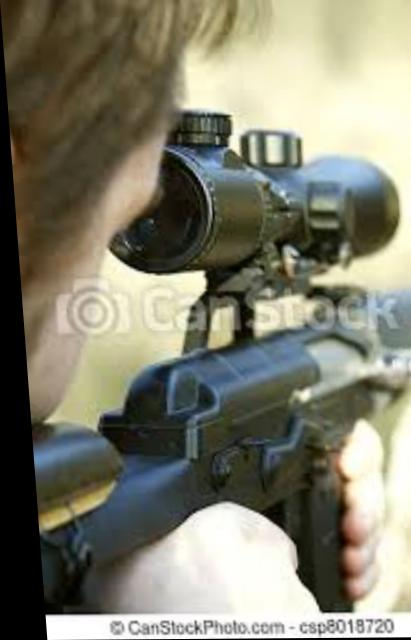other: (0, 0, 287, 612)
